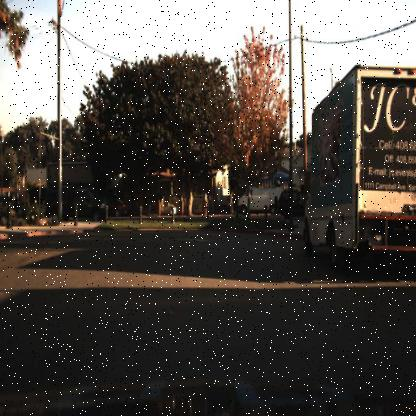car: (46, 180, 108, 229), (232, 182, 286, 212), (98, 195, 126, 219)
truck: (298, 56, 415, 258)
